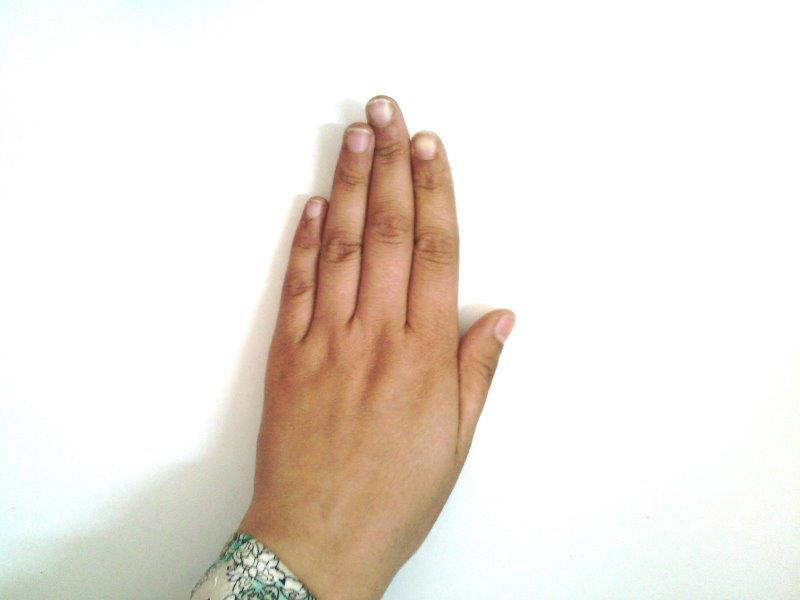hand: (253, 94, 515, 527)
